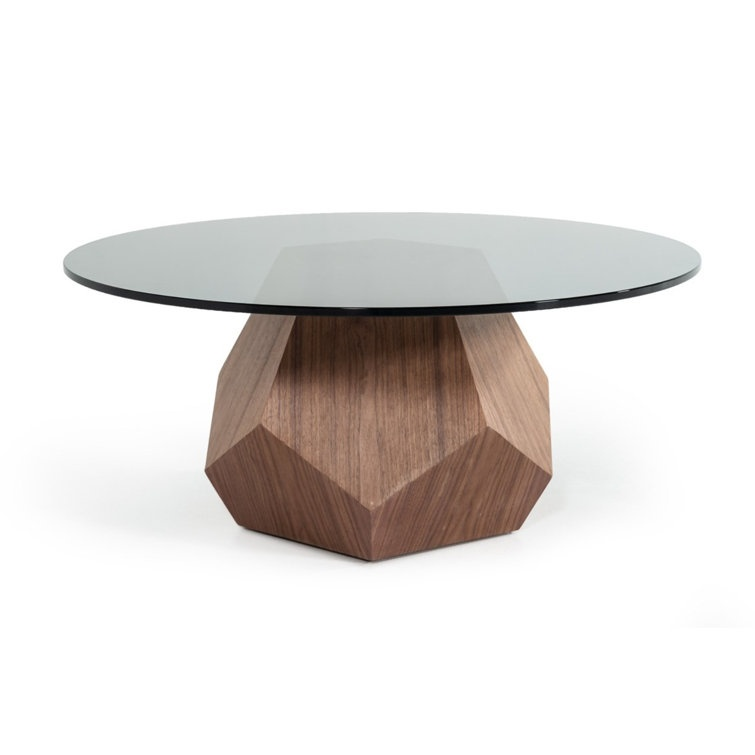obstacle: (64, 213, 699, 559)
